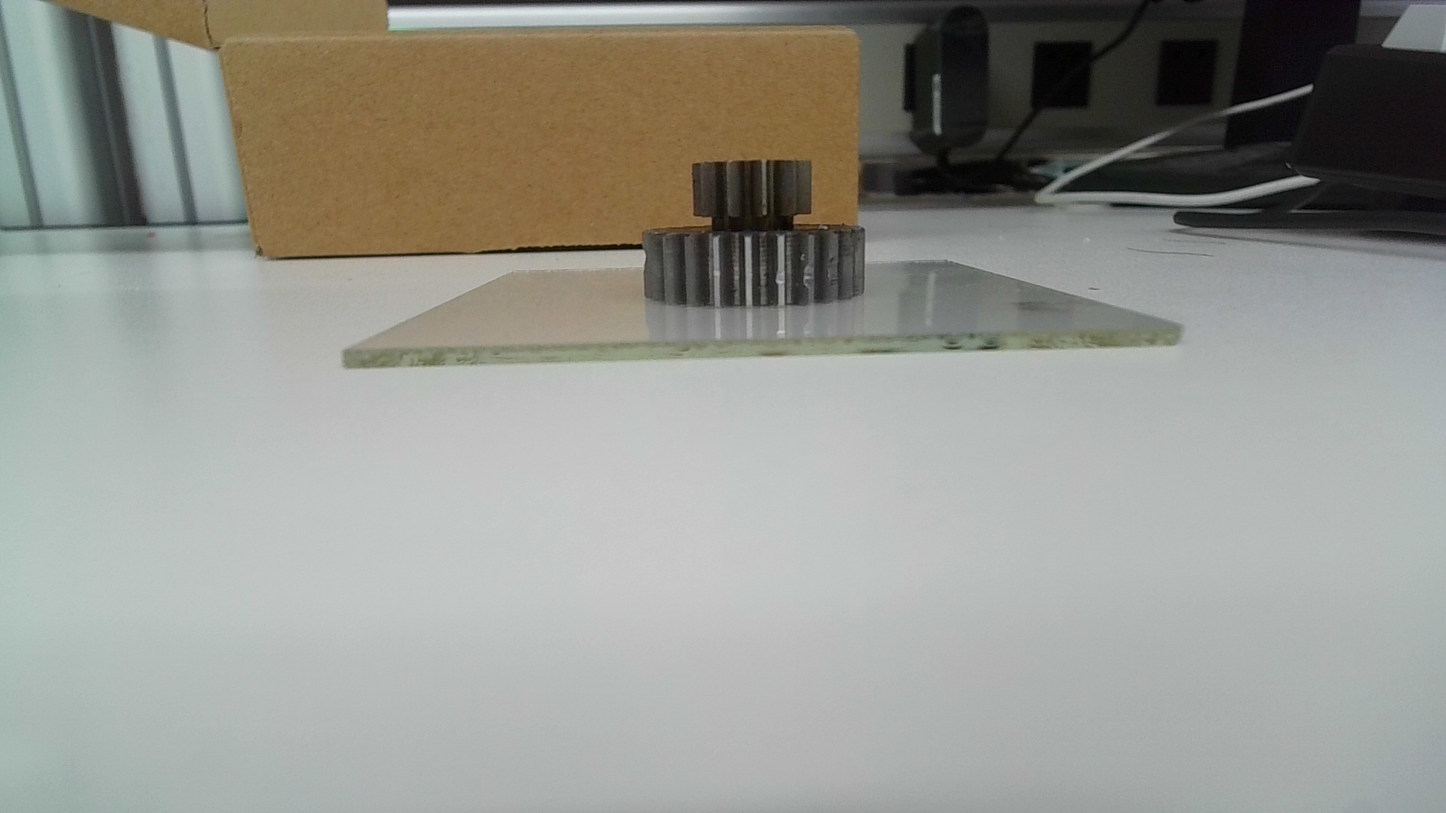gear: (638, 158, 873, 310)
